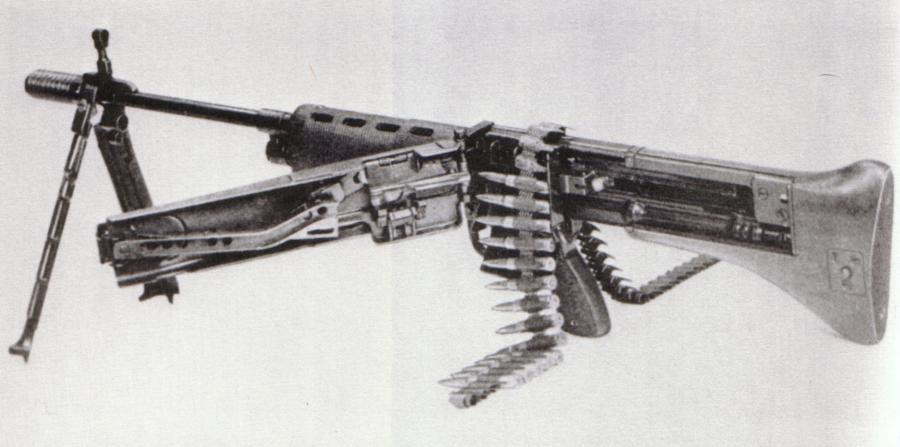rifle: (19, 29, 888, 447)
